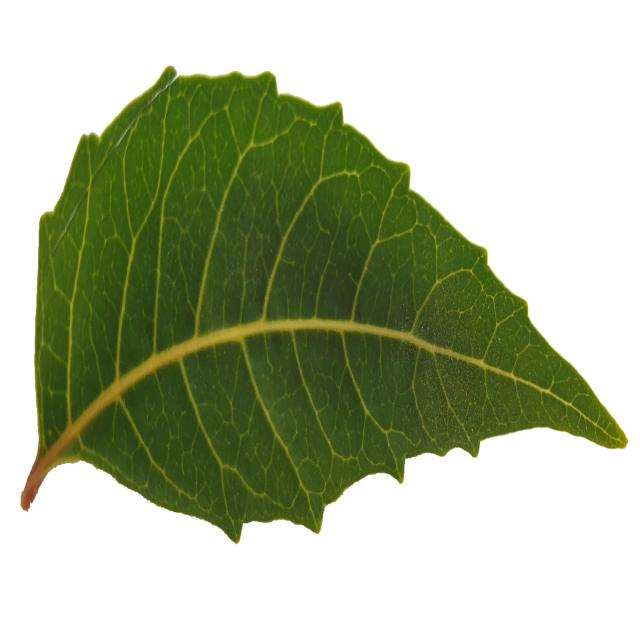Medicinal-Neem: (18, 49, 628, 542)
